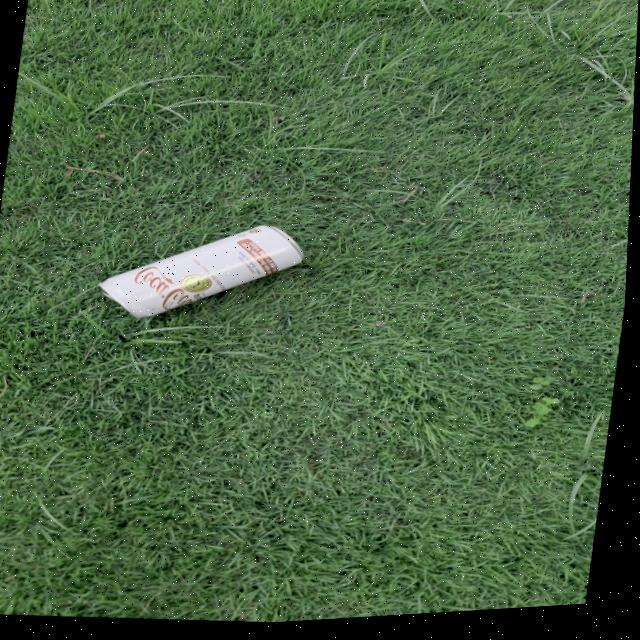Coca Cola Plus: (95, 207, 312, 341)
